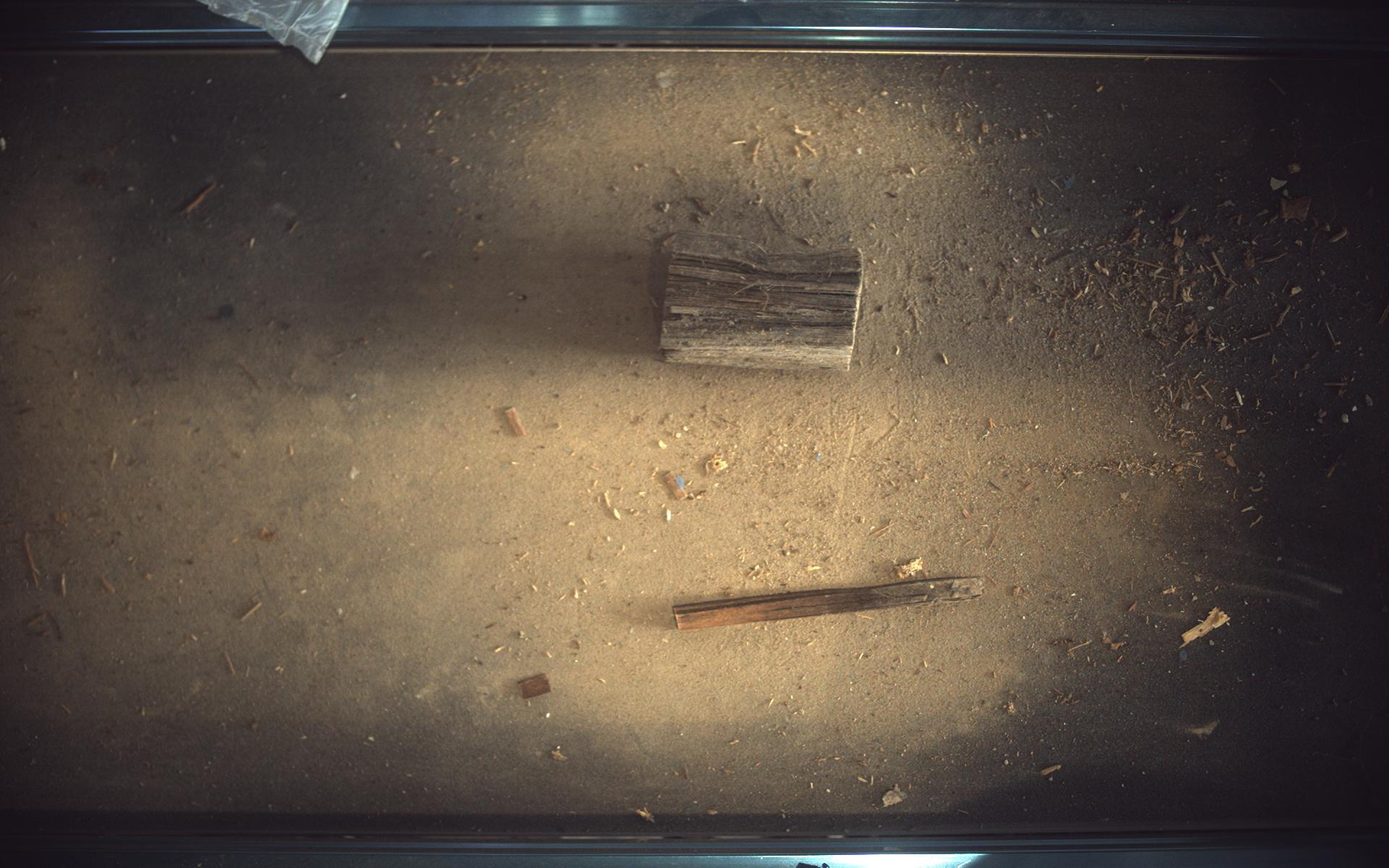wood: (661, 231, 865, 370), (674, 576, 986, 631)
